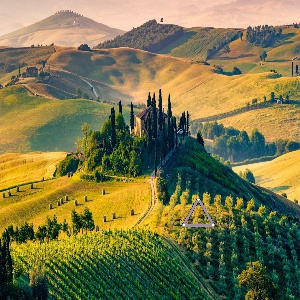triangle: (180, 196, 216, 229)
